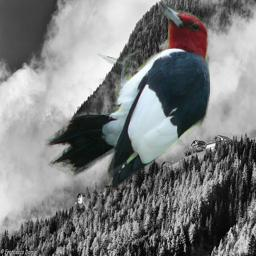Woodpecker: (45, 1, 210, 189)
